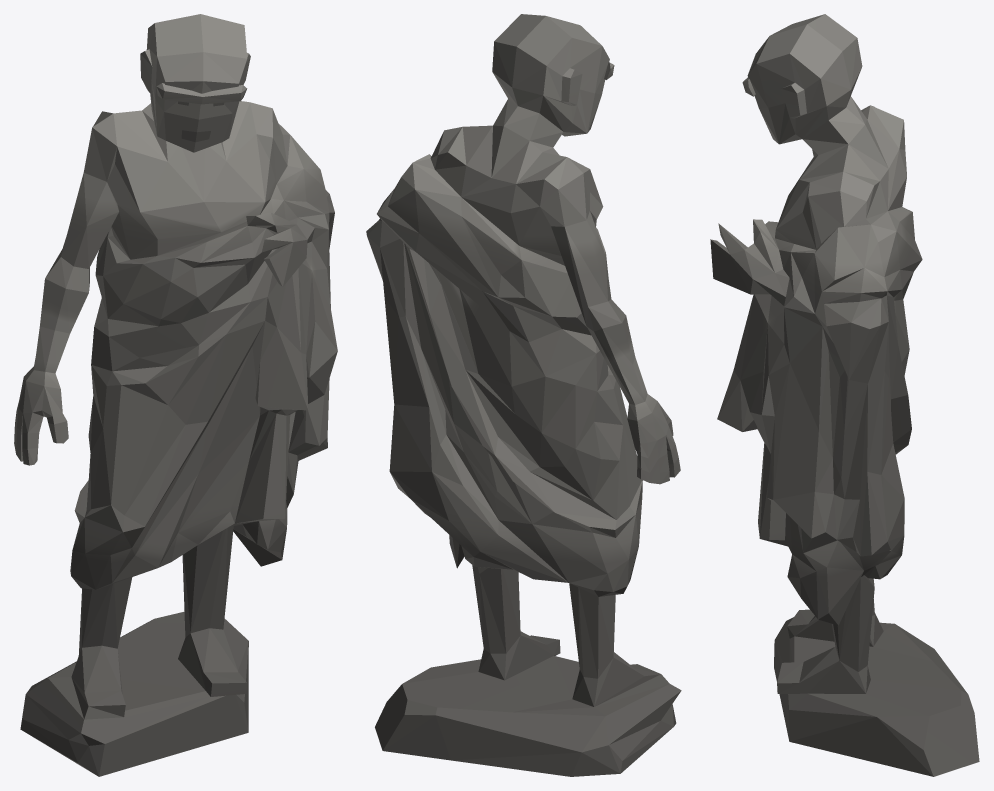
File: crypt_statue_b.gltf
3 views of the same model, side by side, from view 1: azimuth 30°, elevation 25°; view 2: azimuth 150°, elevation 25°; view 3: azimuth 270°, elevation 25° (orthographic). The views are drawn at different scales.
Visible parts, largest first — view 1: crypt_statue_b; view 2: crypt_statue_b; view 3: crypt_statue_b.
Boxes of the visible parts, x1,y1,x2,y2 form: crypt_statue_b: (14,14,337,776); crypt_statue_b: (366,14,681,776); crypt_statue_b: (710,14,979,776).
Bounding box in the file's own units: 0.8569 × 1.9 × 0.6626.
1 material, 1 textured.
